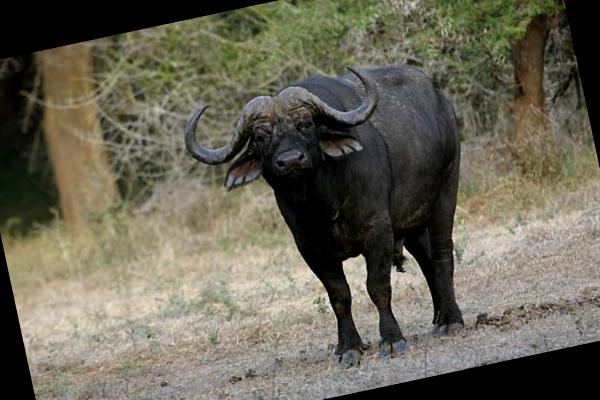Buffalo: (162, 26, 502, 398)
